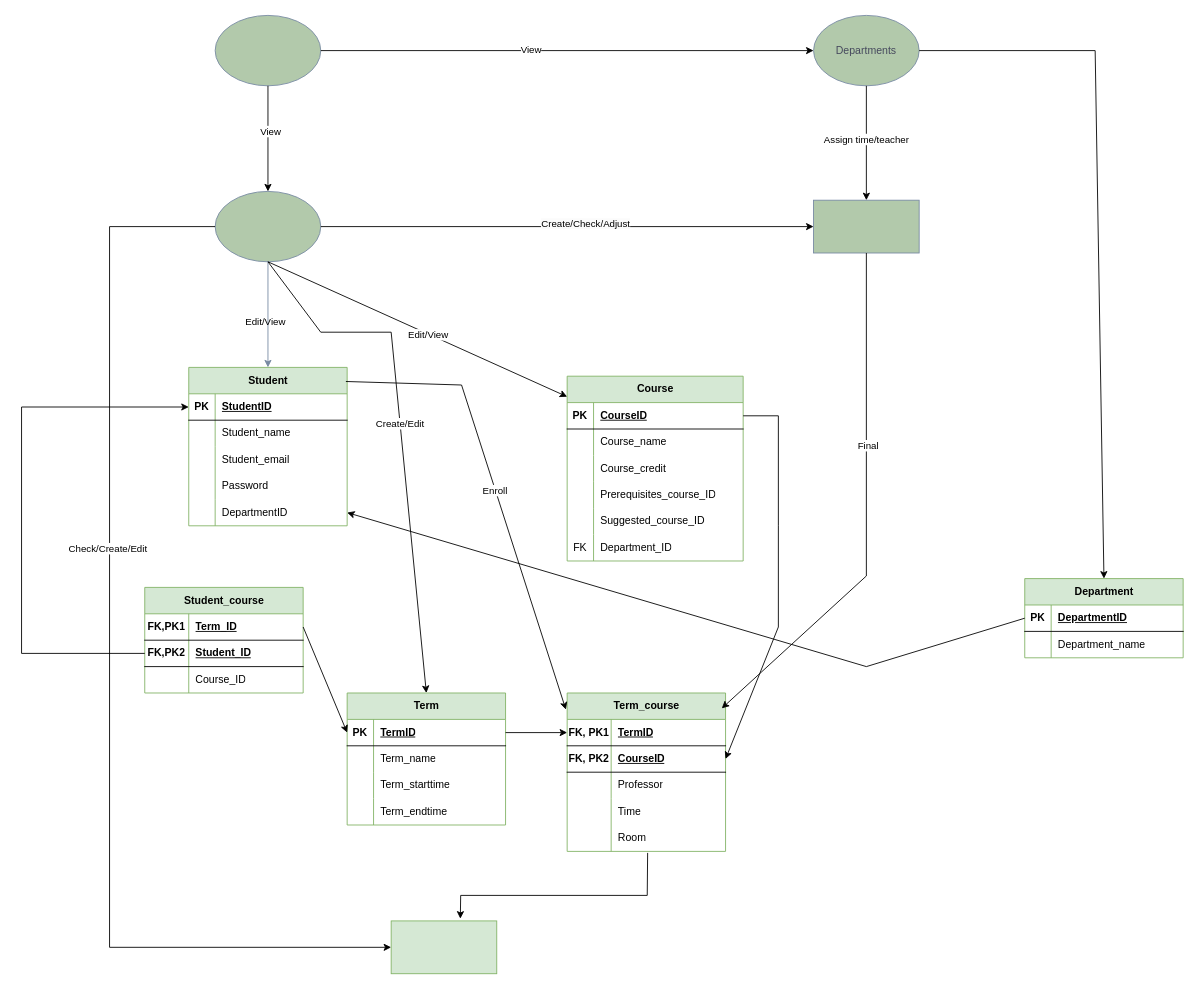
Image size: 1199x989. Some labels were removed from this diagram. The shapes that lost their labels are listed below. From the top down, each one's centre as x and y in pixels, then its label:
At point 267,50: "Manager".
At point 267,226: "Register Office".
At point 866,226: "Next Semester Courses".
At point 443,947: "Course Roaster".
